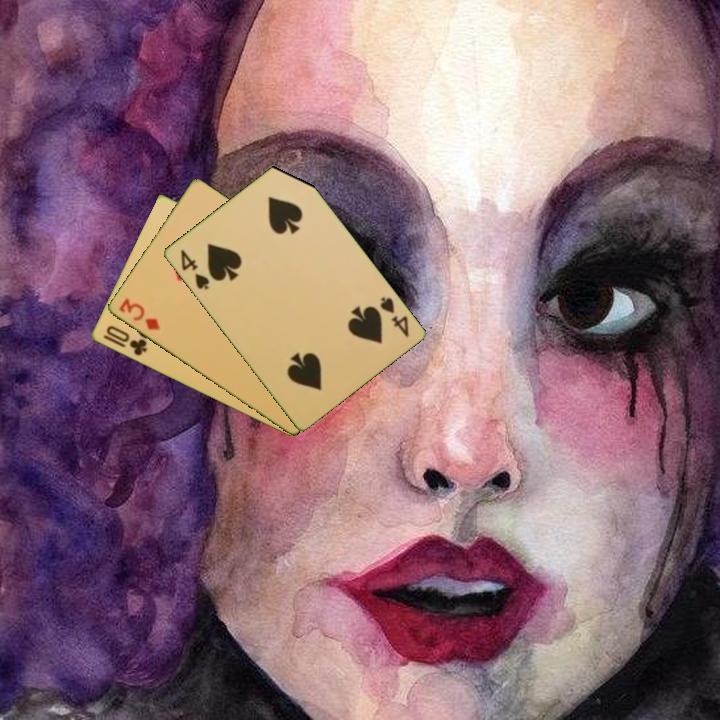10c: (99, 322, 149, 359)
3d: (115, 295, 163, 333)
4s: (176, 246, 212, 293), (376, 293, 412, 340)
